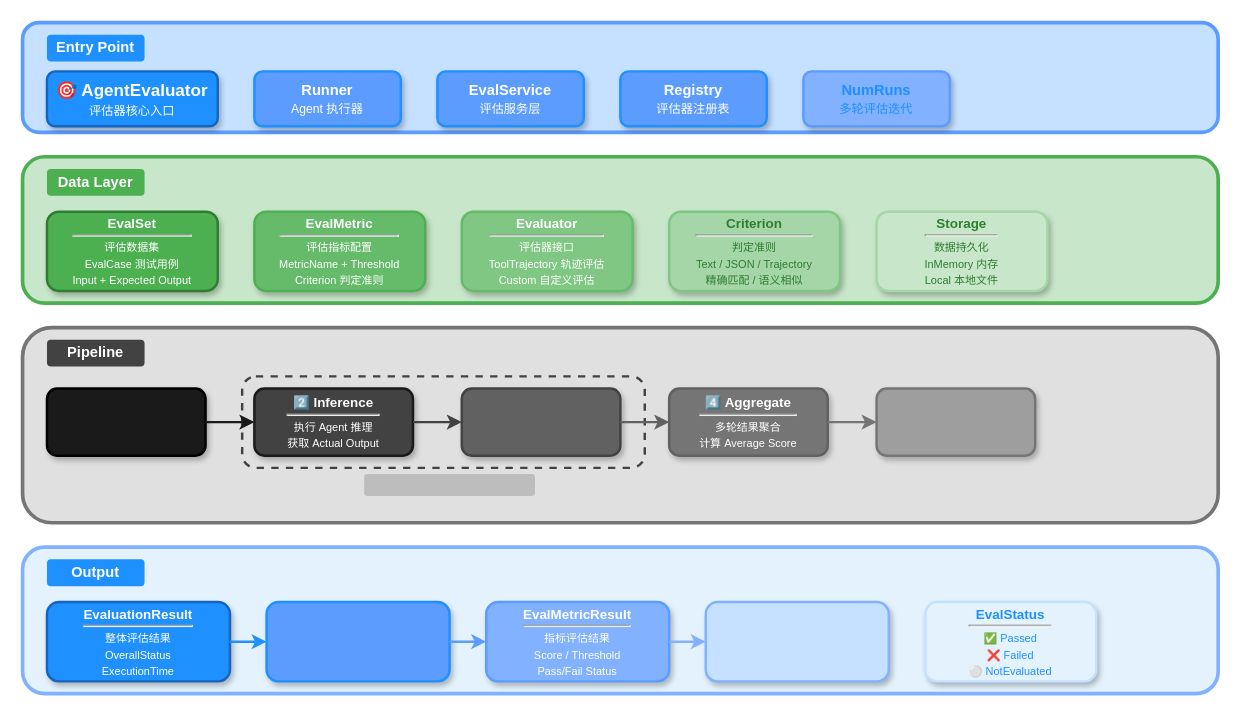
The diagram is 1241 pixels wide and 716 high, and some of its shapes have lost their labels. The shapes that lost their labels are listed below. From the top down, each one's centre as x and y in pixels, then its label:
At (127,423): "1️⃣ Load 加载 EvalSet 获取 EvalCase".
At (541,423): "3️⃣ Evaluate 对比 Actual vs Expected 计算 Score".
At (956,423): "5️⃣ Summarize 汇总 Overall Status 生成评估报告".
At (449,484): "🔁 Iteration Loop (NumRuns)".
At (359,643): "EvalCaseResult 用例评估结果 Per-Run Results Aggregated Metrics".
At (798,643): "PerInvocationResult 单次调用结果 Actual vs Expected Score + Details".
